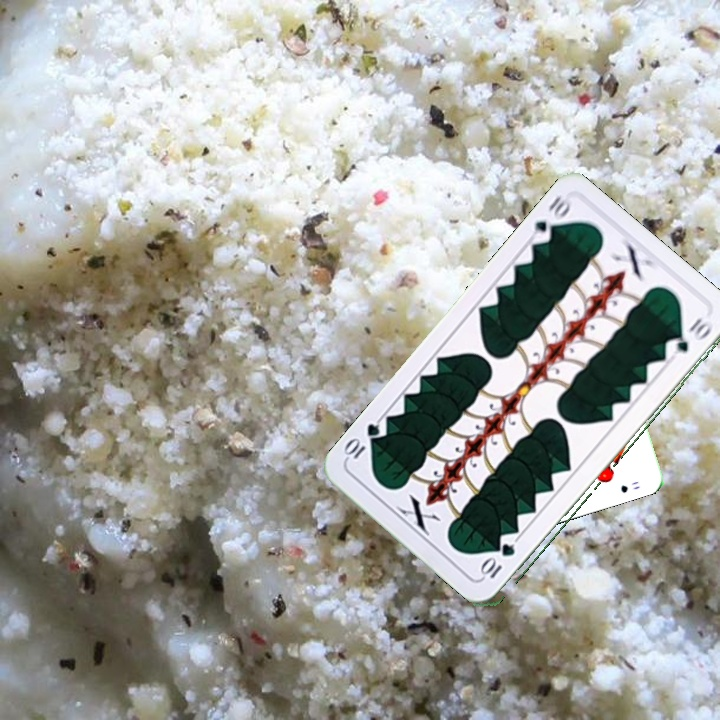G10: (526, 191, 574, 247), (478, 540, 518, 581)
